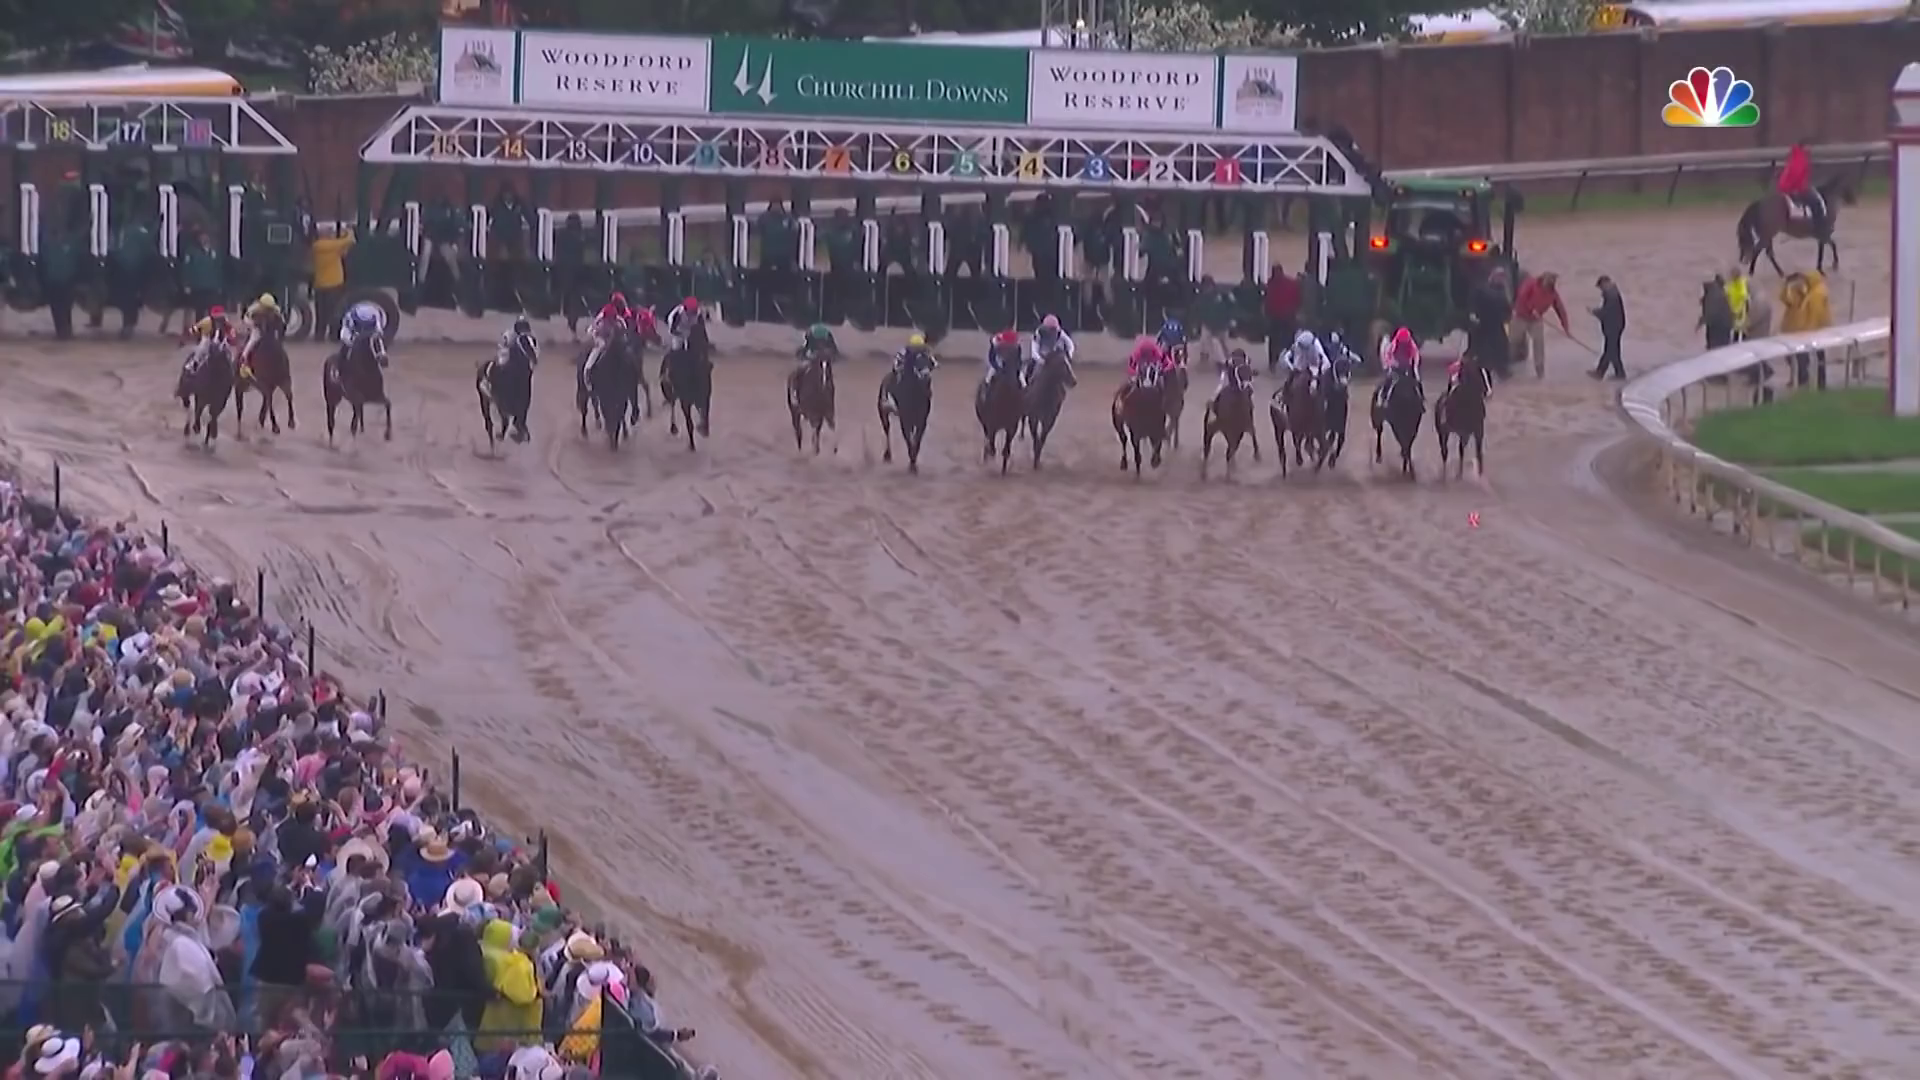jockey: (334, 301, 385, 380), (243, 287, 287, 375), (1379, 328, 1425, 411), (185, 309, 235, 378), (1441, 345, 1491, 411), (1283, 324, 1323, 406), (1030, 316, 1072, 393), (799, 322, 840, 400), (891, 331, 935, 404), (497, 314, 537, 392), (1316, 332, 1356, 405), (988, 328, 1027, 400), (589, 309, 626, 382), (667, 297, 705, 365), (1212, 347, 1253, 407), (1127, 342, 1163, 400), (1156, 324, 1187, 373)
